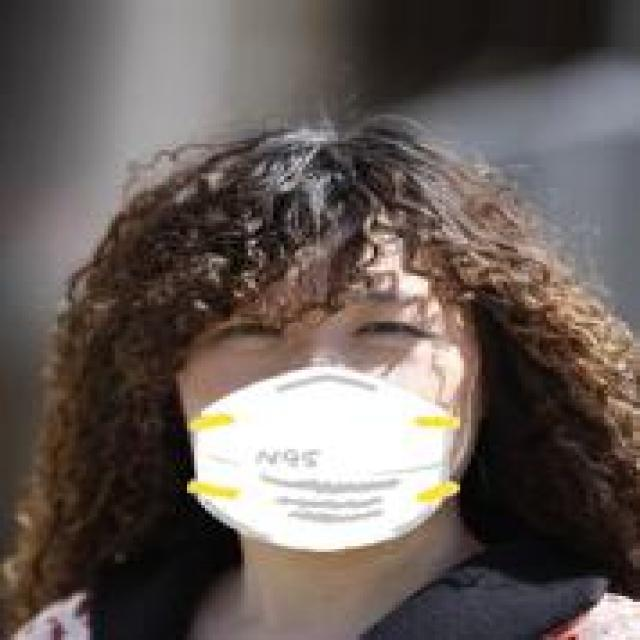mask: (90, 124, 528, 578)
